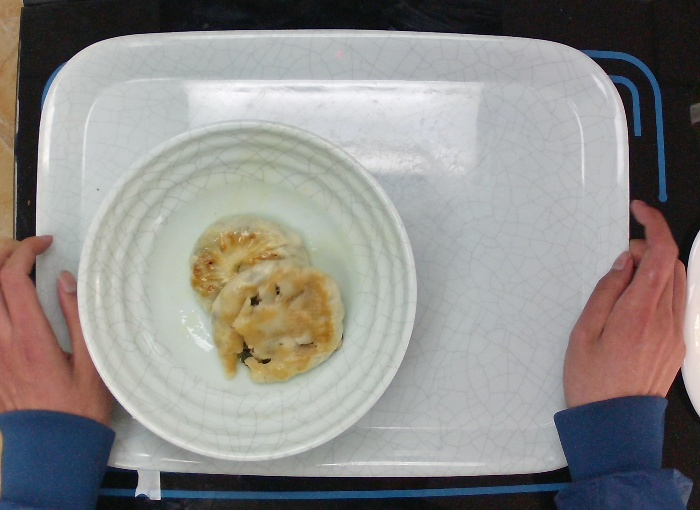JYsf-Da_Tang_Wan: (73, 115, 422, 469)
